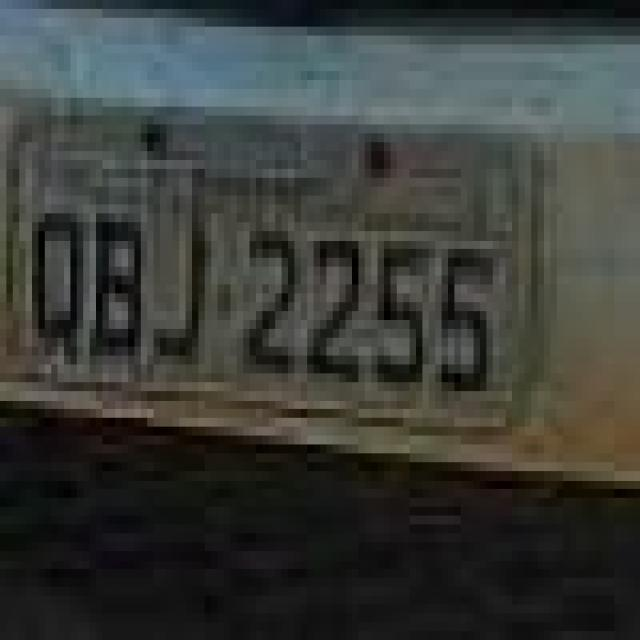5: (438, 233, 499, 399), (370, 241, 429, 400)
B: (94, 203, 140, 378)
J: (153, 209, 222, 378)
Q: (35, 191, 84, 372)
